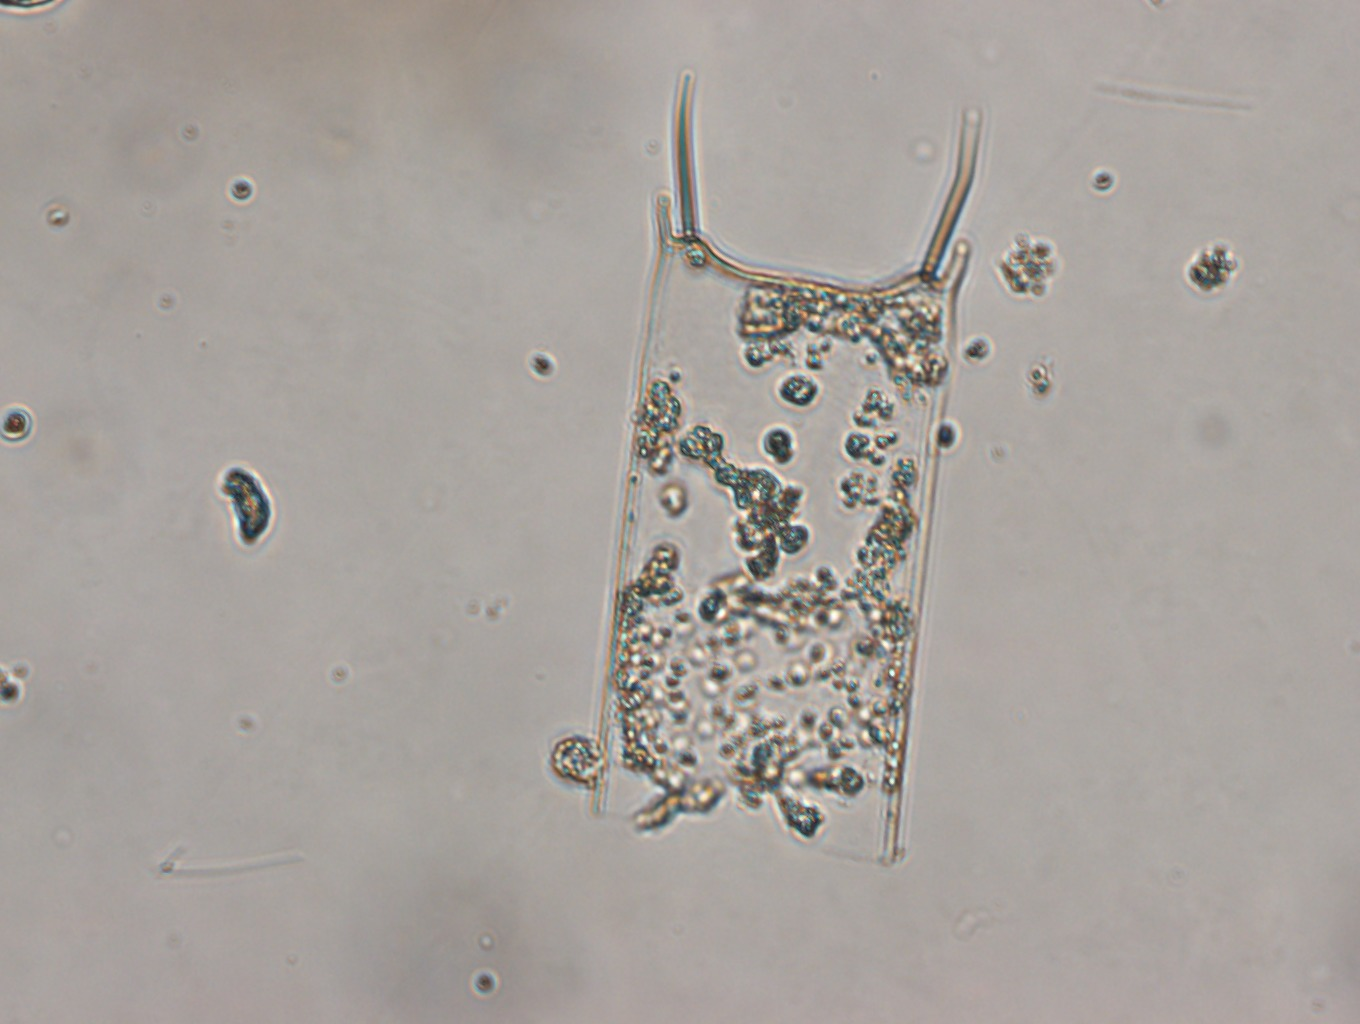biddulphia: (590, 71, 982, 867)
